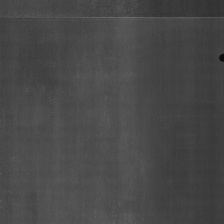welding_line: (0, 12, 223, 25), (216, 51, 224, 64)
